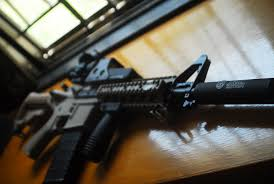gun: (8, 51, 272, 182)
